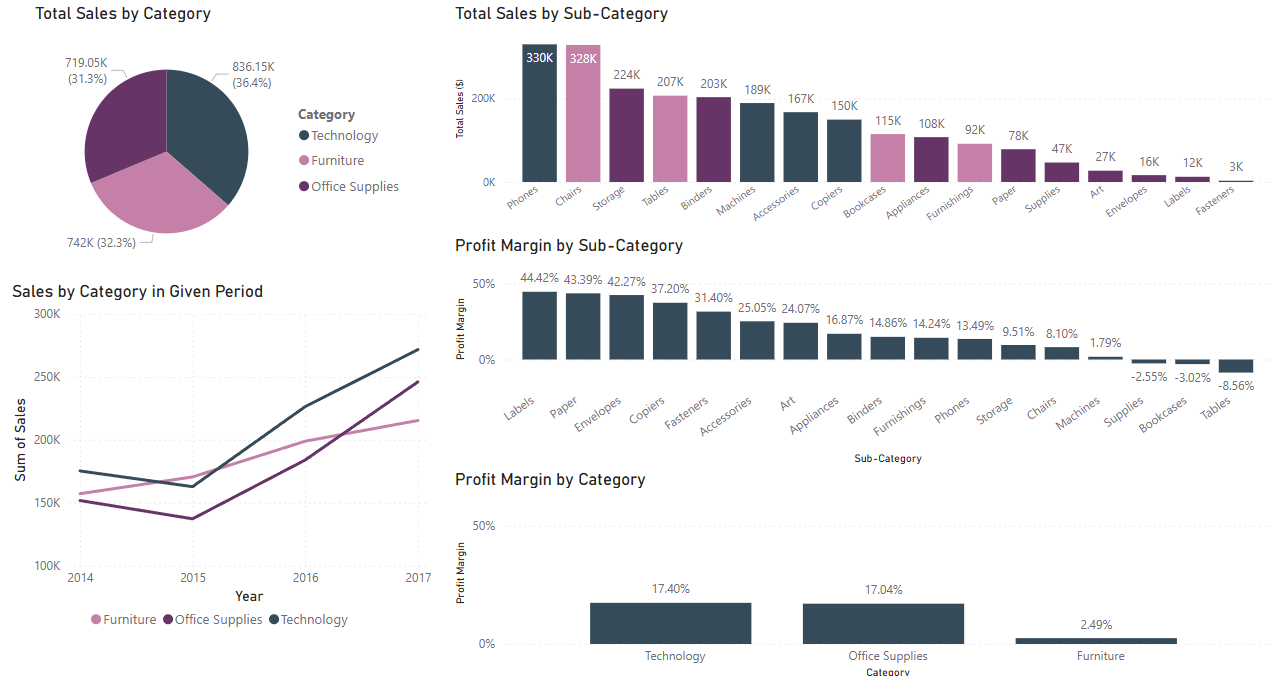

Layout of this report page (visuals, bound fields, positions):
{"tool":"powerbi","page":{"name":"Product Categories and Sub-categories","canvas":[1280,720],"ordinal":1},"visuals":[{"type":"pieChart","title":"Total Sales by Category","fields":{"Category":["Orders.Category","Orders.Sub-Category"],"Y":["Sum(Orders.Sales)"]},"box":[34,40,383,278],"z":0},{"type":"actionButton","box":[0,0,100,40],"z":1000},{"type":"columnChart","title":"Total Sales by Sub-Category","fields":{"Y":["Sum(Orders.Sales)"],"Category":["Orders.Sub-Category"]},"box":[454,0,826,246],"z":2000},{"type":"lineChart","title":" Sales by Category in Given Period","fields":{"Category":["Orders.Order Date.Variation.Date Hierarchy.Year","Orders.Order Date.Variation.Date Hierarchy.Quarter","Orders.Order Date.Variation.Date Hierarchy.Month","Orders.Order Date.Variation.Date Hierarchy.Day"],"Y":["Sum(Orders.Sales)"],"Series":["Orders.Category"]},"box":[11,318,429,357],"z":3000},{"type":"columnChart","fields":{"Y":["Orders.Profit Margin"],"Category":["Orders.Sub-Category"]},"box":[454,254,826,252],"z":4000},{"type":"columnChart","fields":{"Y":["Orders.Profit Margin"],"Category":["Orders.Category"]},"box":[454,506,826,214],"z":5000}]}

Visuals, with their boxes on the page's 1280x720 design canvas (x1, y1, x2, y2). These are canvas units, not pixel positions in the 1272x676 screenshot, which may show the page scaled, cropped or inside an application window:
"Total Sales by Category" pieChart: <bbox>34, 40, 417, 318</bbox>
actionButton: <bbox>0, 0, 100, 40</bbox>
"Total Sales by Sub-Category" columnChart: <bbox>454, 0, 1280, 246</bbox>
" Sales by Category in Given Period" lineChart: <bbox>11, 318, 440, 675</bbox>
columnChart - Orders.Profit Margin x Orders.Sub-Category: <bbox>454, 254, 1280, 506</bbox>
columnChart - Orders.Profit Margin x Orders.Category: <bbox>454, 506, 1280, 720</bbox>
